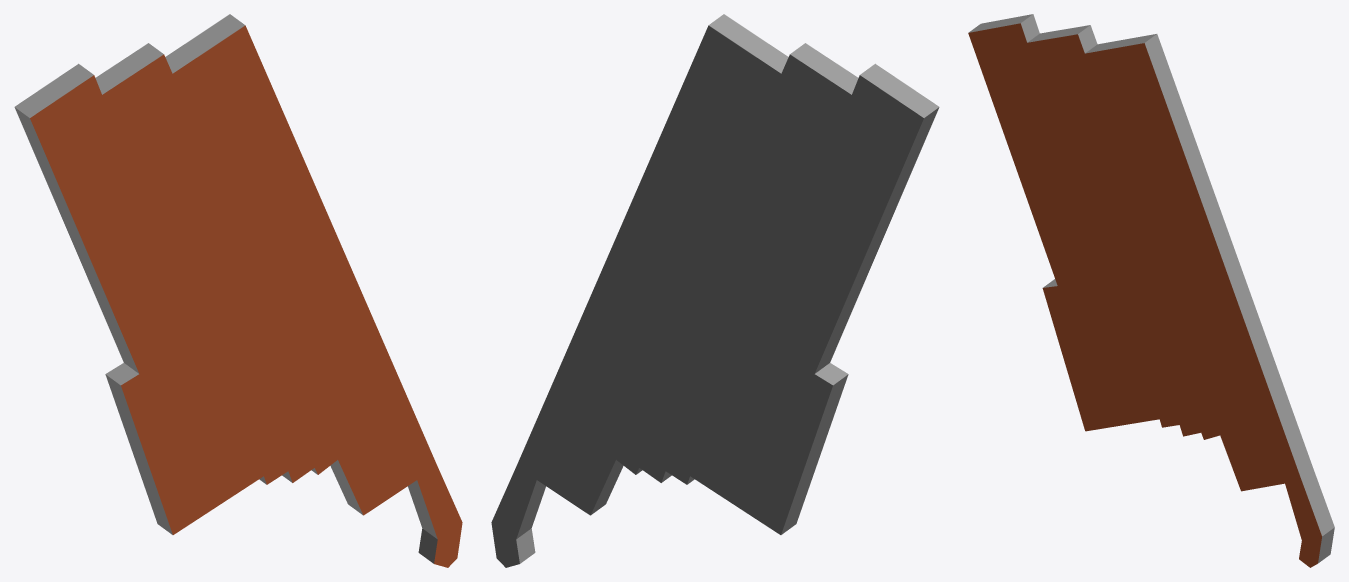
Rendered from construction_0171_assumed_A_Grande_construcao_h6m.obj.
The picture shows the model from 3 angles, left to right: view 1: azimuth 30°, elevation 25°; view 2: azimuth 150°, elevation 25°; view 3: azimuth 330°, elevation 25°; orthographic projection. The views are drawn at different scales.
Visible parts, largest first — view 1: construction_0171_assumed_A_Grande_construcao; view 2: construction_0171_assumed_A_Grande_construcao; view 3: construction_0171_assumed_A_Grande_construcao.
Part boxes in pixels (x1,y1,x2,y2): construction_0171_assumed_A_Grande_construcao: (14, 14, 462, 567); construction_0171_assumed_A_Grande_construcao: (491, 14, 939, 567); construction_0171_assumed_A_Grande_construcao: (968, 14, 1334, 567).
Bounding box in the file's own units: 96.73 × 126 × 6.
